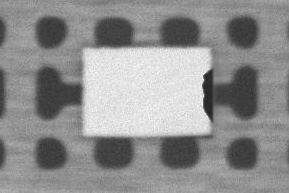DIE_BROKEN: (199, 66, 215, 123)
